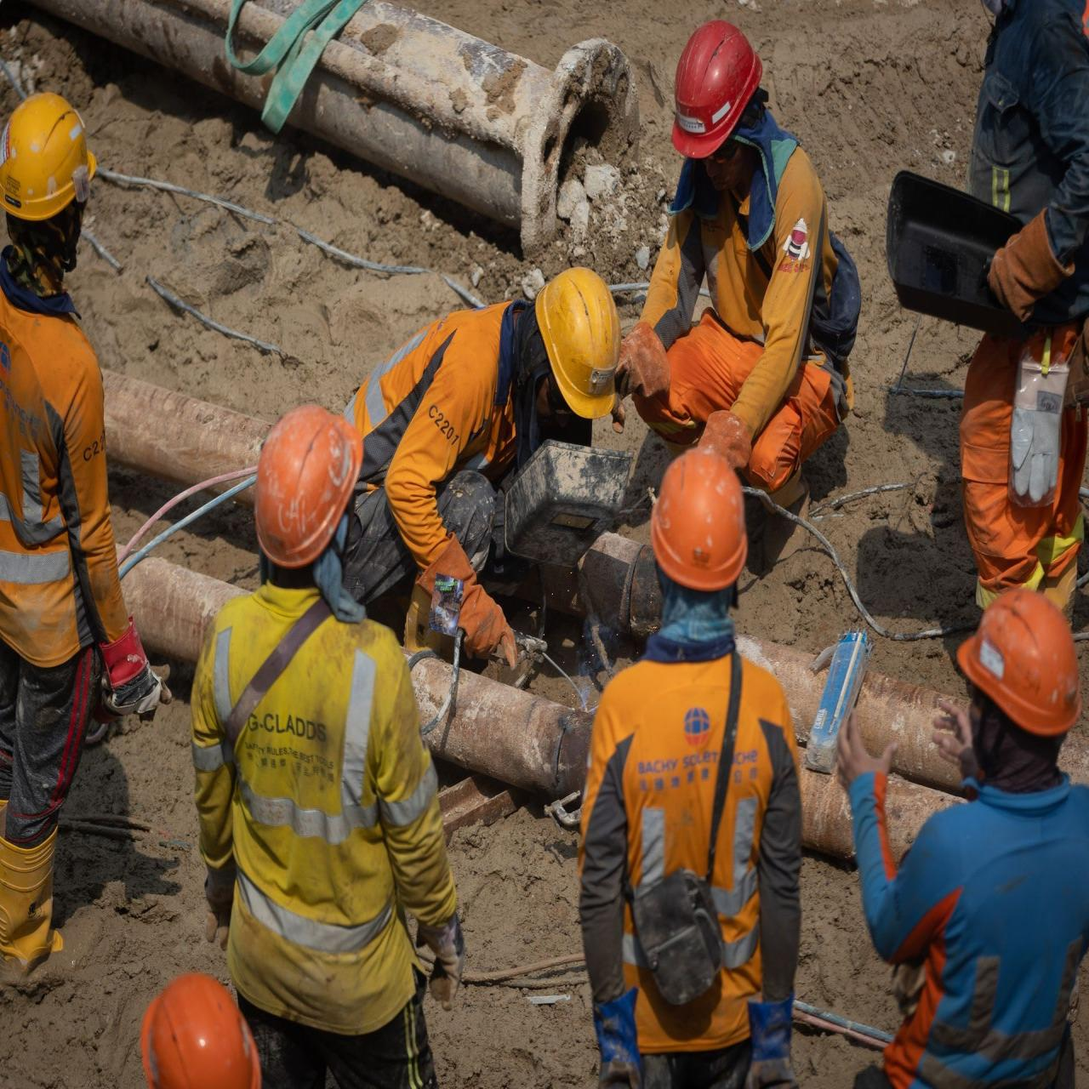NO_Safety_Vest: (194, 578, 453, 1032), (581, 641, 787, 1053), (894, 764, 1089, 1089), (347, 302, 526, 597), (0, 269, 116, 685), (960, 0, 1089, 369), (684, 158, 850, 367)
Person: (167, 377, 481, 1089), (564, 426, 814, 1089), (606, 0, 877, 562), (0, 81, 165, 969), (820, 560, 1089, 1089), (332, 241, 632, 700), (904, 0, 1089, 627)
